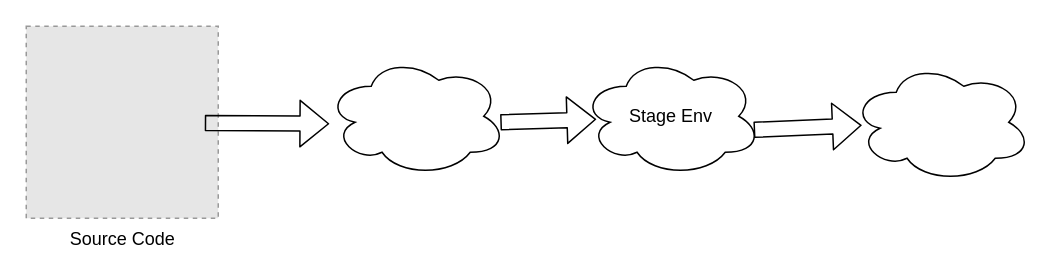
This 1058x276 diagram has some shape labels left out. Grey dashed boxes stand in for pictures. Here are the shapes that lost their labels. From the top down, the centre of each, then its label:
At point 415,115: "Dev Environment".
At point 940,121: "Prod Env.".
